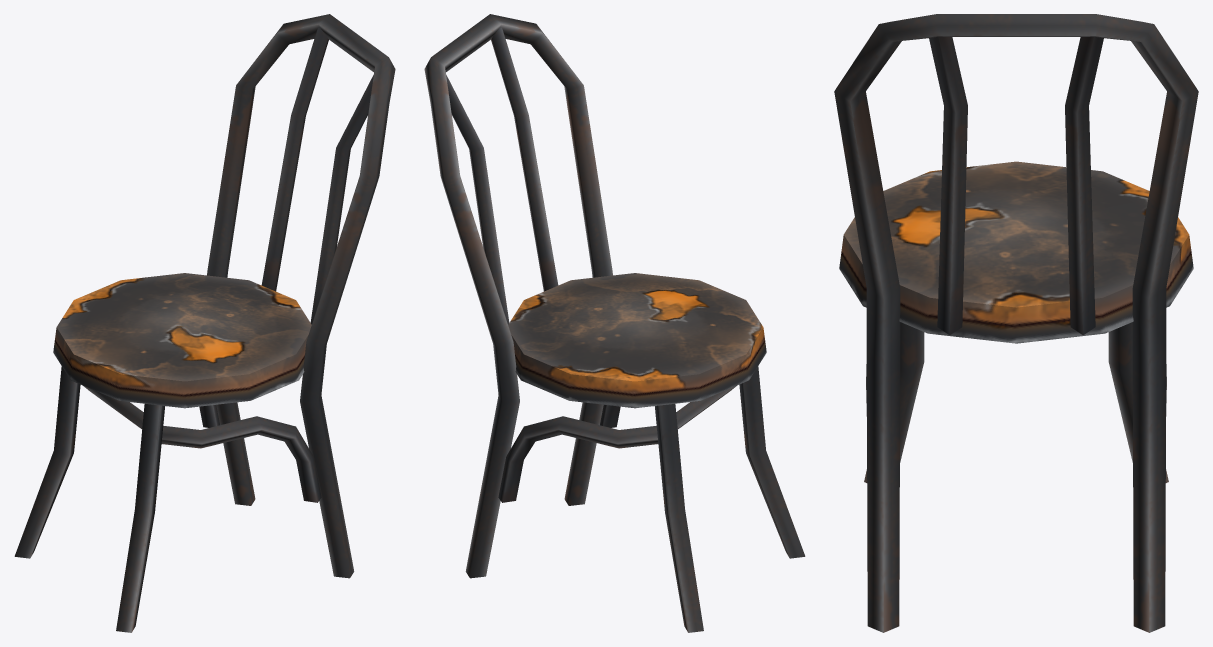
File: chair06_black.fbx
3 renders of one model, left to right at view 1: azimuth 30°, elevation 25°; view 2: azimuth 150°, elevation 25°; view 3: azimuth 270°, elevation 25°, orthographic. The views are drawn at different scales.
Visible parts, largest first — view 1: chair06_black; view 2: chair06_black; view 3: chair06_black.
Part boxes in pixels (x1,y1,x2,y2): chair06_black: (14,14,395,632); chair06_black: (424,14,805,632); chair06_black: (834,14,1198,632).
Size of the model in its own units: 61.21 by 94.62 by 47.74.
